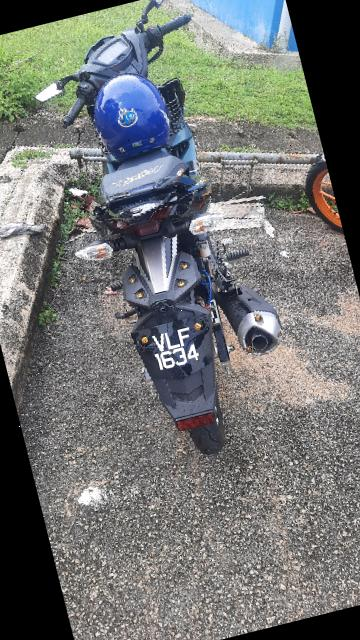License_Plate: (110, 300, 240, 398)
motorcycle: (17, 5, 323, 482)
